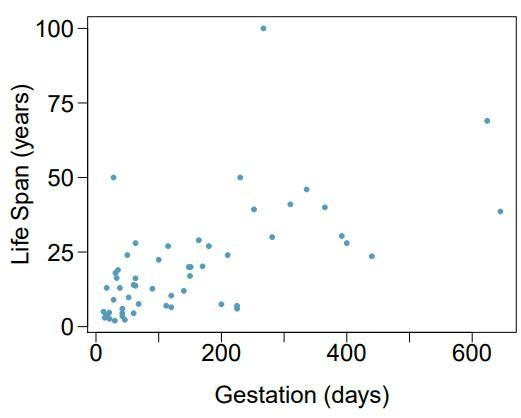point: (257, 22, 272, 34), (265, 232, 279, 243), (367, 250, 378, 263), (482, 115, 494, 126), (109, 172, 120, 183), (223, 250, 234, 261), (130, 238, 142, 248), (320, 201, 330, 213), (495, 205, 505, 217), (122, 250, 133, 260), (249, 204, 259, 215), (285, 199, 296, 209), (198, 261, 209, 271), (235, 173, 247, 182), (341, 239, 353, 248), (302, 184, 312, 194), (336, 230, 346, 240), (148, 283, 157, 294), (179, 286, 189, 295), (185, 261, 194, 271), (194, 236, 204, 245), (232, 306, 243, 314), (116, 283, 125, 292), (131, 281, 140, 290), (186, 272, 195, 281), (164, 242, 173, 251), (233, 301, 242, 310), (102, 284, 112, 292), (130, 308, 138, 318), (154, 256, 164, 264), (204, 242, 214, 250), (216, 300, 226, 308), (111, 275, 122, 282), (132, 273, 140, 282), (124, 293, 133, 301), (167, 291, 176, 299), (110, 270, 120, 277), (109, 295, 117, 303), (135, 300, 143, 308), (167, 303, 175, 311), (114, 266, 123, 273), (162, 301, 169, 310), (118, 305, 126, 312), (99, 308, 107, 315), (106, 308, 114, 315), (121, 316, 129, 323), (101, 315, 108, 322), (112, 317, 118, 325)
